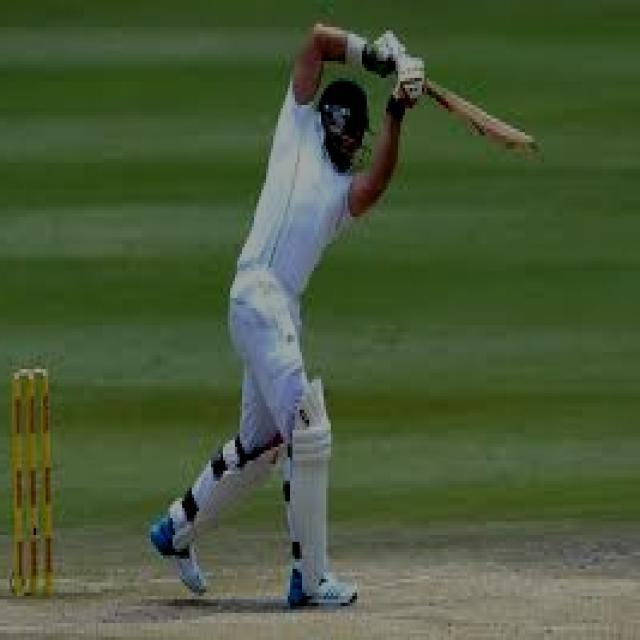bat: (420, 80, 542, 154)
toe: (520, 135, 541, 154)
